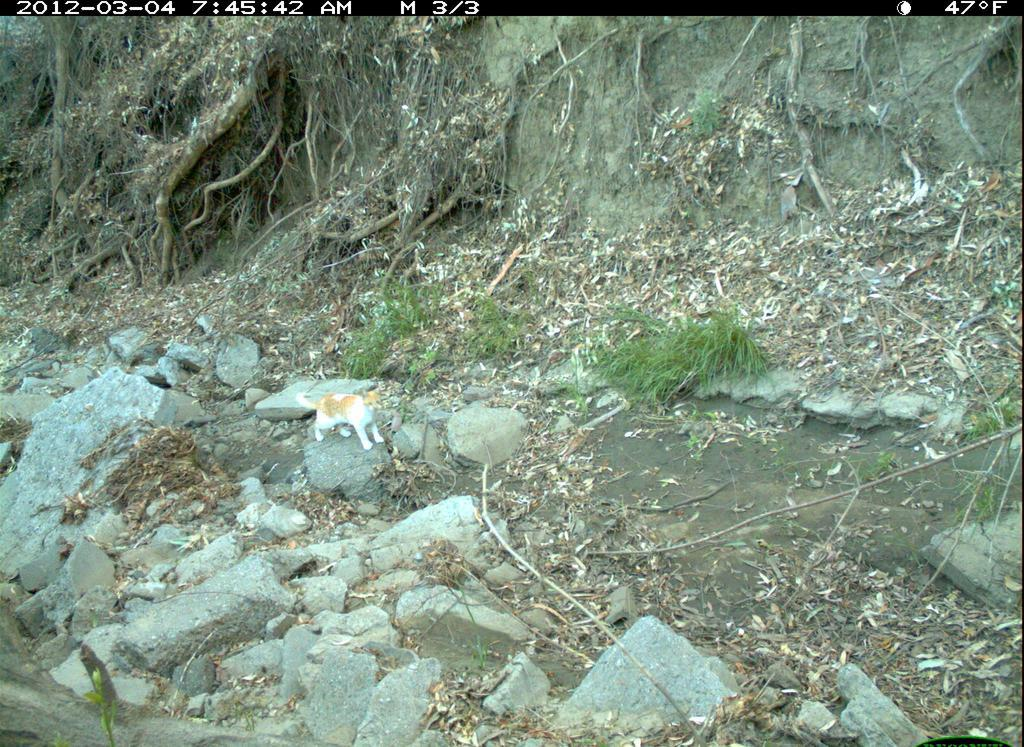cat: (292, 381, 392, 456)
